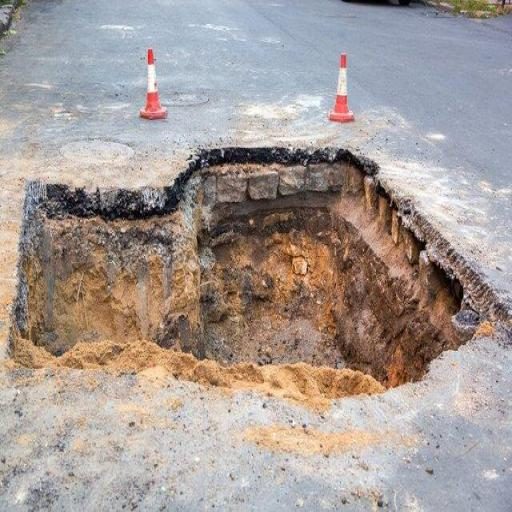Concentric_Crack: (10, 149, 512, 409)
